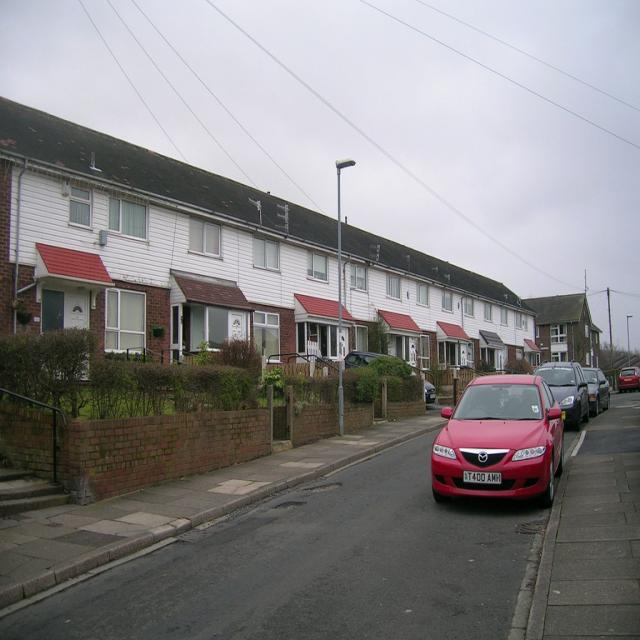car: (430, 368, 563, 506)
